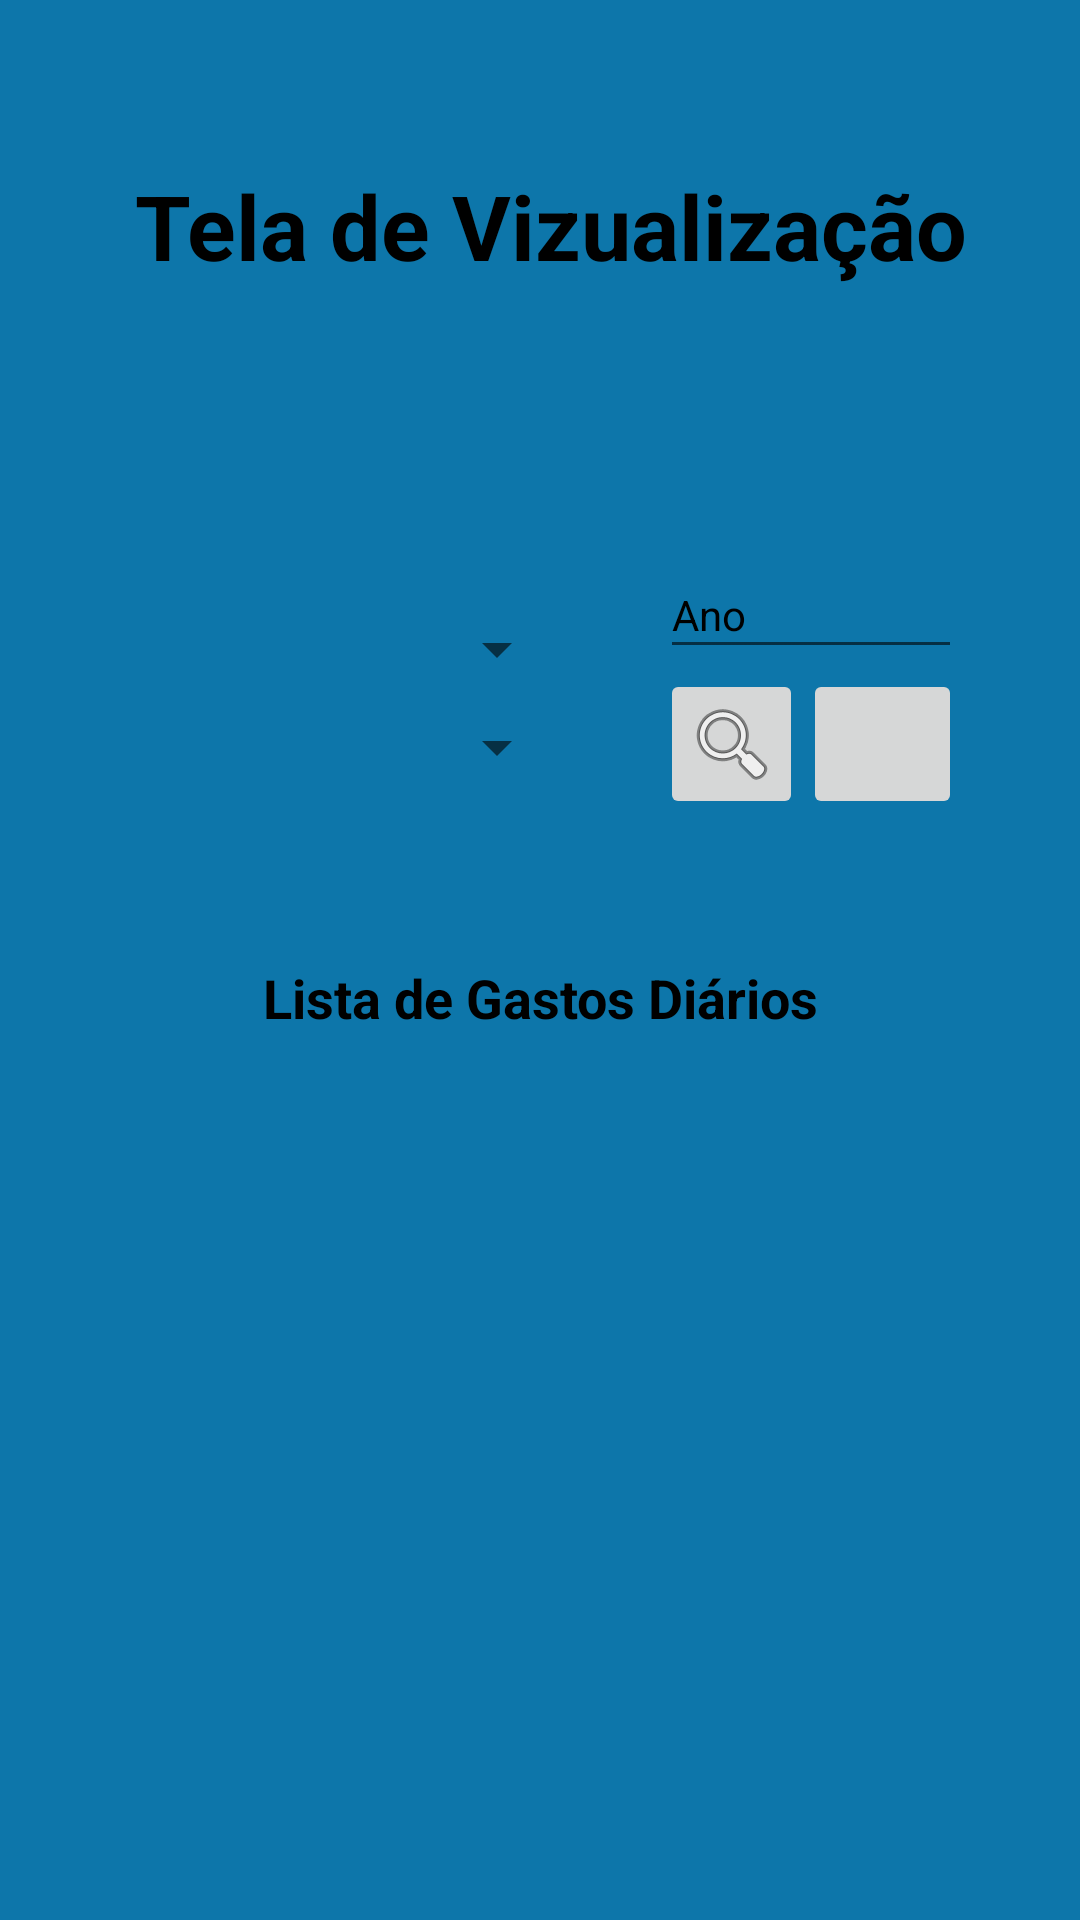

Icon bounding boxes for this 1080px×1920px phone screenshot, format (x1, y1, x2, y2):
search: (672, 687, 791, 801)
